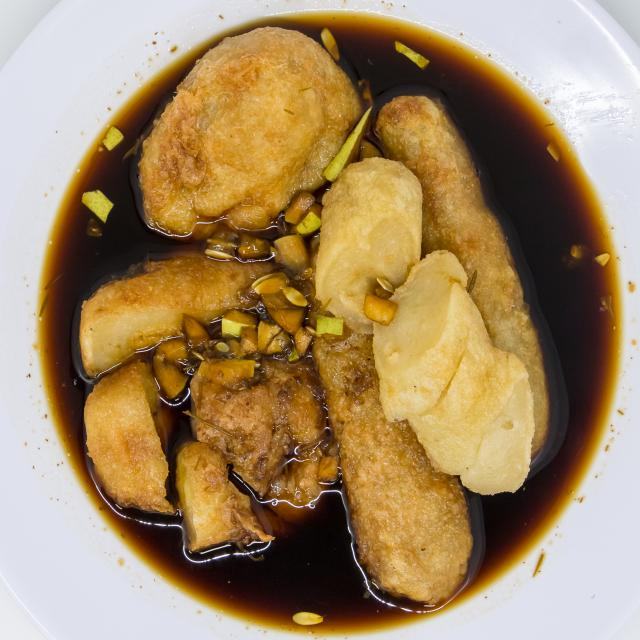Pempek-Palembang: (59, 12, 563, 622)
